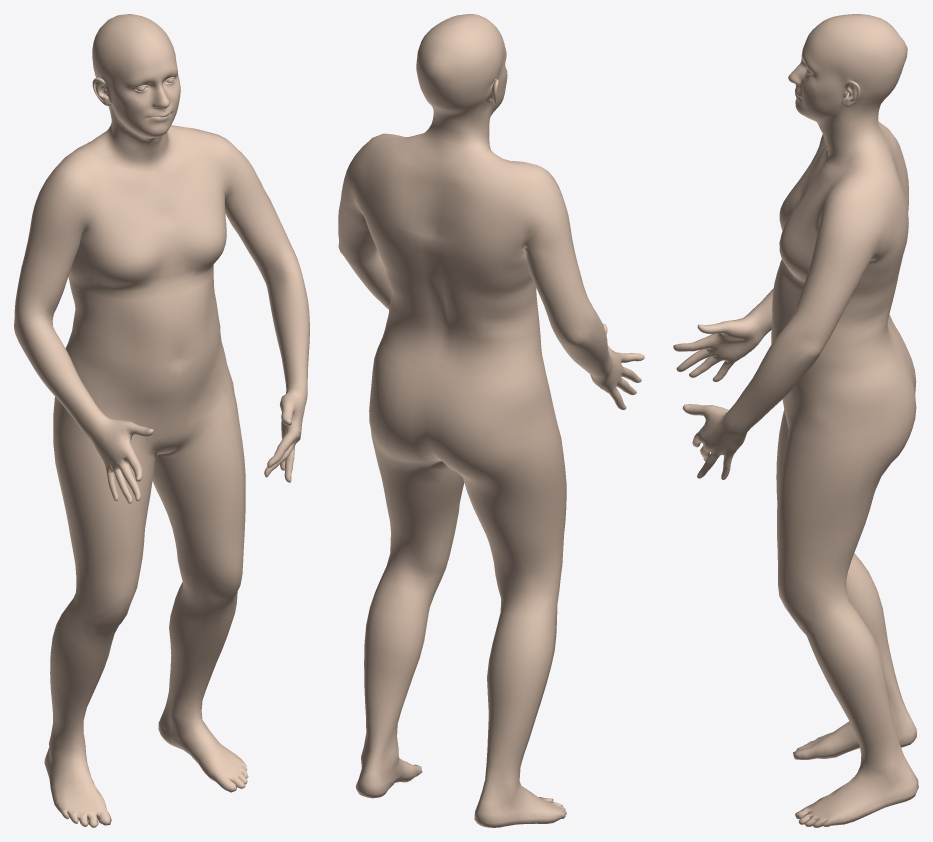
Rendered from WORD-00435.glb.
3 renders of one model, left to right at view 1: azimuth 30°, elevation 25°; view 2: azimuth 150°, elevation 25°; view 3: azimuth 270°, elevation 25°, orthographic. The views are drawn at different scales.
Bounding box in the file's own units: 0.6121 × 1.72 × 0.4959.
